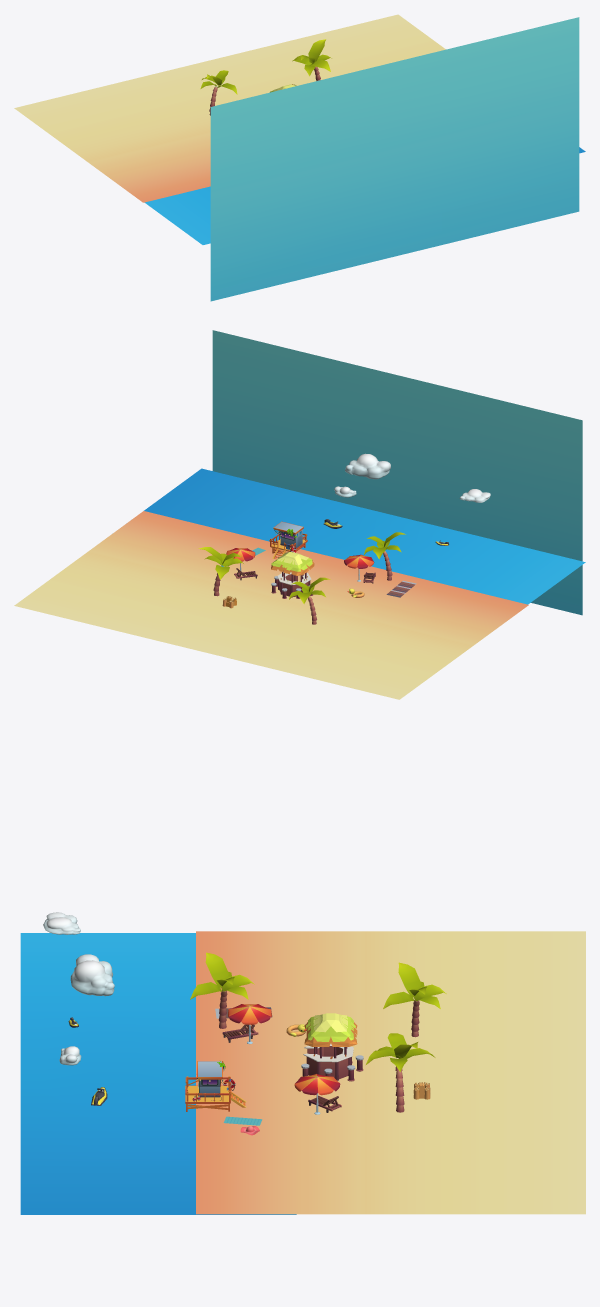
The model's file is BarBeachBackground.fbx.
3 renders of one model, top to bottom at view 1: azimuth 30°, elevation 25°; view 2: azimuth 150°, elevation 25°; view 3: azimuth 270°, elevation 25°, orthographic. The views are drawn at different scales.
Parts seen in each view (by area): view 1: Background_Sky, Sand, Water, Coconut_tree2, Coconut_tree3; view 2: Background_Sky, Sand, Water, TikiBar, Guard_House, Cloud01, Coconut_tree2, Coconut_tree, Coconut_tree3, Umbrellla_01; view 3: Sand, Water, TikiBar, Guard_House, Coconut_tree, Coconut_tree3, Cloud01, Coconut_tree2, Umbrellla_01, Umbrellla_02.
Part boxes in pixels (x1,y1,x2,y2): Background_Sky: (210,17,579,301); Sand: (14,14,445,202); Water: (144,147,585,244); Coconut_tree2: (292,39,331,80); Coconut_tree3: (200,70,237,115); Background_Sky: (212,330,582,615); Sand: (14,511,528,699); Water: (144,468,585,604); TikiBar: (271,552,314,598); Guard_House: (269,521,307,559); Cloud01: (345,453,390,479); Coconut_tree2: (198,547,243,596); Coconut_tree: (364,532,405,580); Coconut_tree3: (289,577,330,624); Umbrellla_01: (344,554,375,583); Sand: (196,931,585,1214); Water: (20,933,296,1214); TikiBar: (301,1013,363,1081); Guard_House: (185,1061,246,1111); Coconut_tree: (190,952,254,1028); Coconut_tree3: (383,962,446,1037); Cloud01: (70,954,114,996); Coconut_tree2: (366,1033,435,1112); Umbrellla_01: (222,1004,271,1044); Umbrellla_02: (294,1074,341,1114).
Size of the model in its own units: 44330 by 21421 by 37842.
